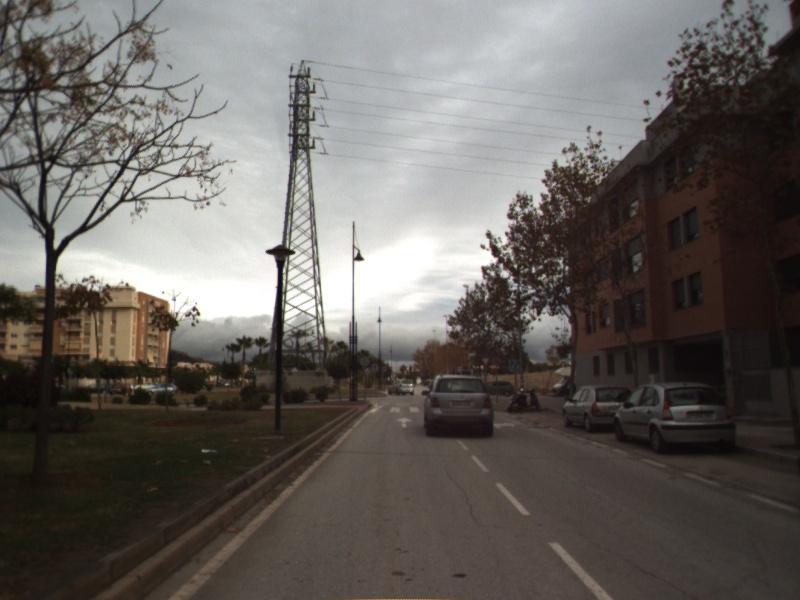STRAIGHT: (394, 415, 414, 429)
